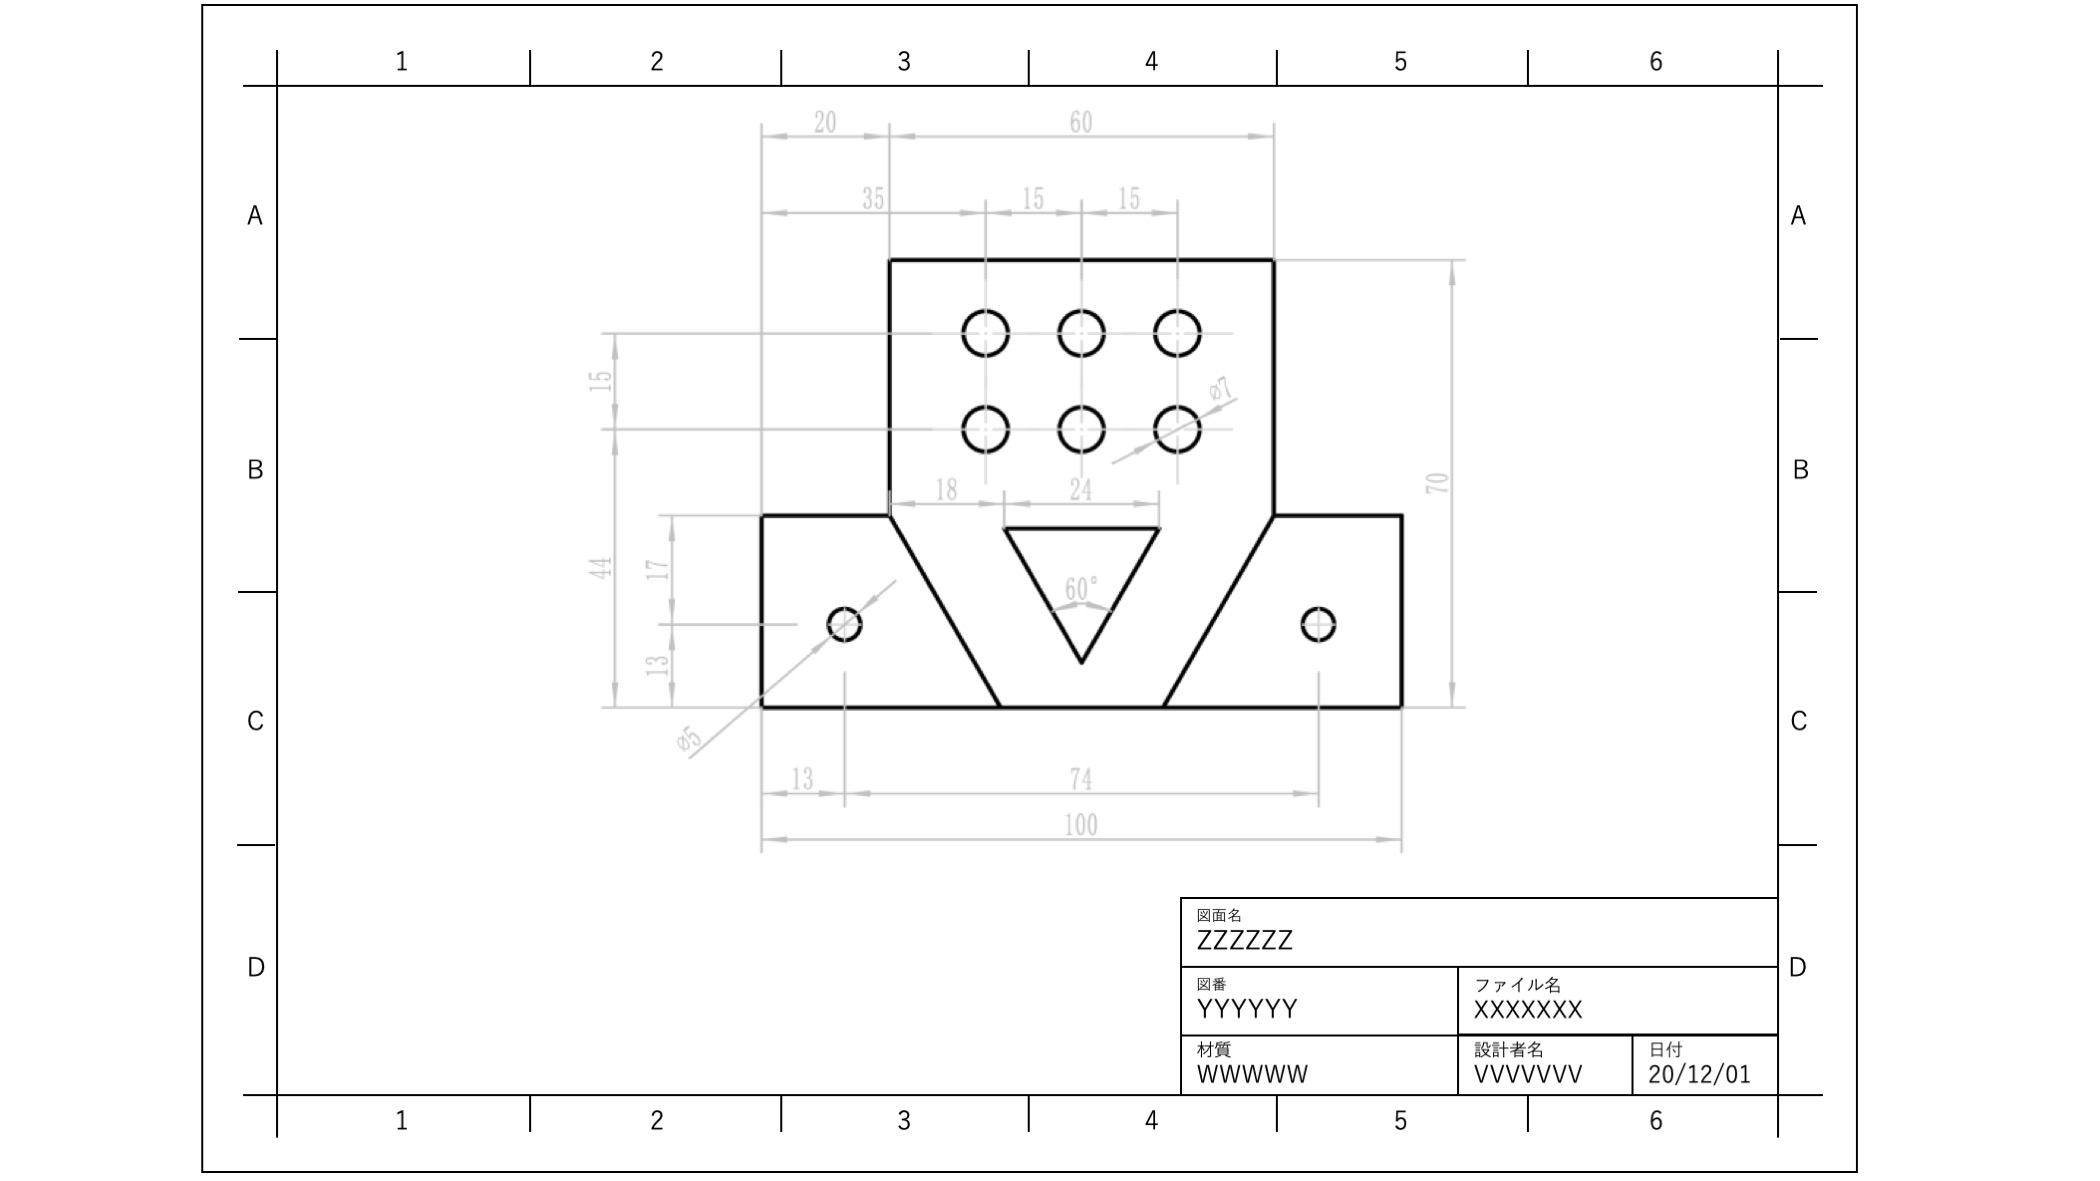circle: (1053, 397, 1111, 464), (953, 395, 1012, 456), (1053, 301, 1111, 363), (1145, 300, 1203, 361), (1148, 394, 1201, 456), (955, 306, 1007, 358), (825, 603, 865, 646), (1298, 603, 1337, 646)
triangle: (1002, 513, 1162, 663)
